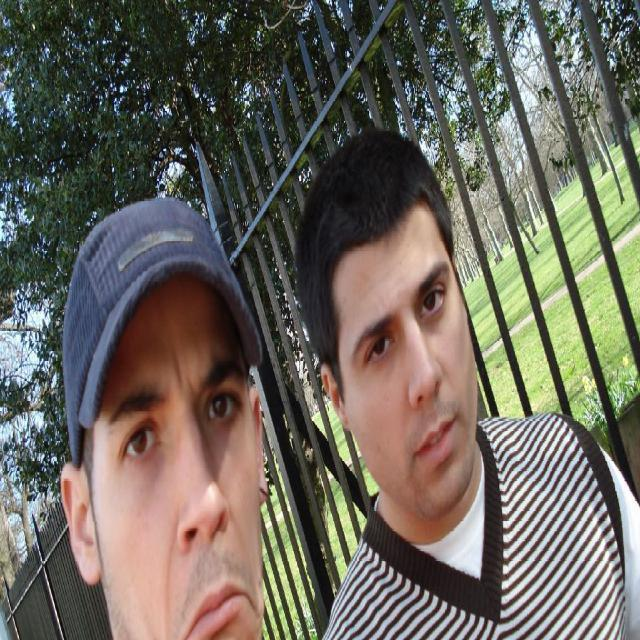closed-mouth: (185, 556, 256, 639), (412, 409, 462, 471)
